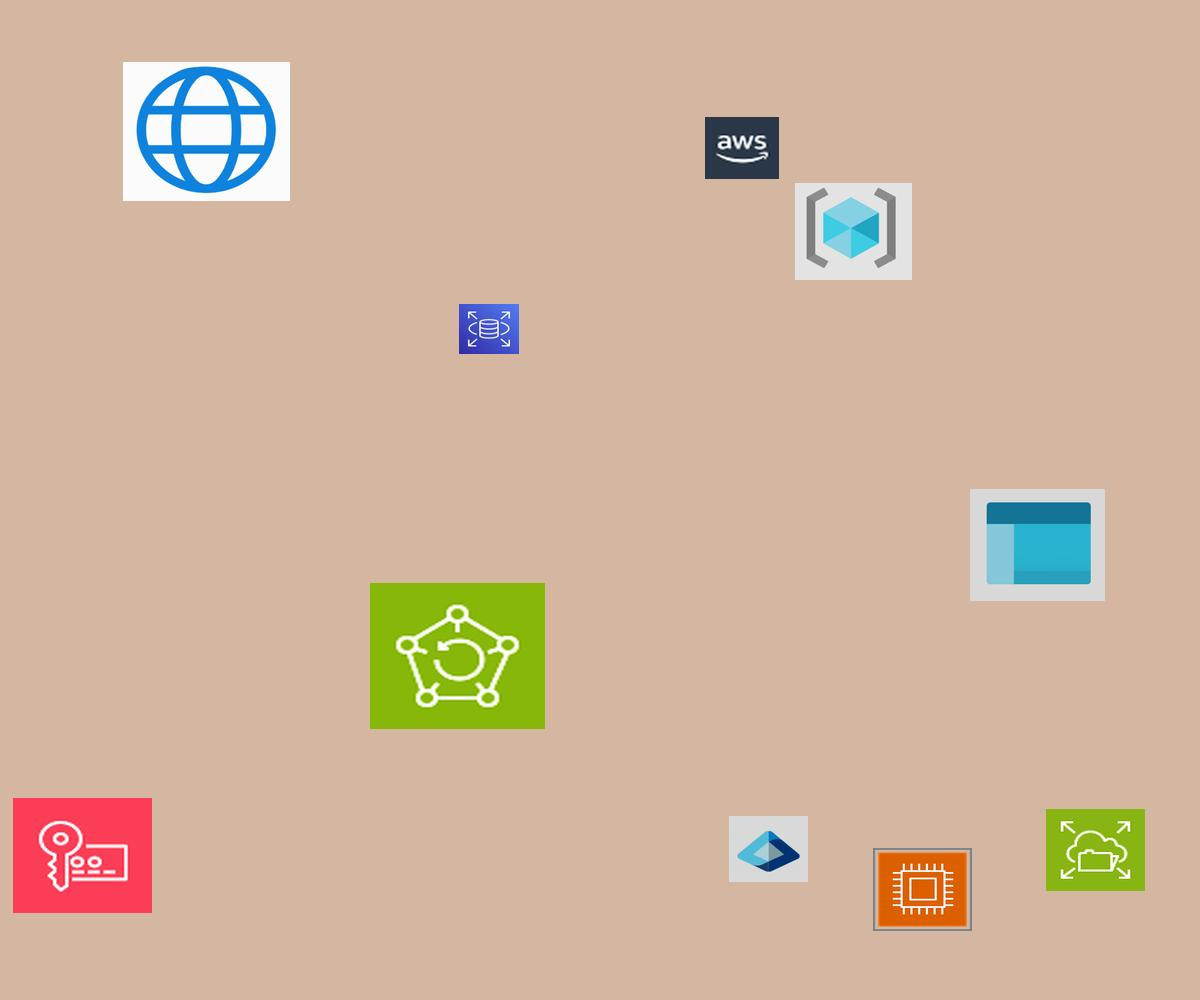AWS-Backup: (370, 583, 545, 729)
AWS-Category_Compute: (873, 848, 972, 931)
AWS-Cloud-logo: (705, 117, 779, 179)
AWS-EFS: (1046, 809, 1145, 891)
AWS-Key-Management-Service: (13, 798, 152, 913)
AWS-RDS: (459, 304, 519, 354)
Azure_http: (123, 62, 290, 201)
Azure_management-portal: (970, 489, 1105, 601)
Azure_microsoft_entra: (729, 816, 808, 882)
Azure_resource_group: (795, 183, 912, 280)
